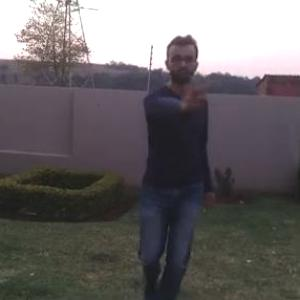takeoff-hand: (178, 64, 209, 108)
